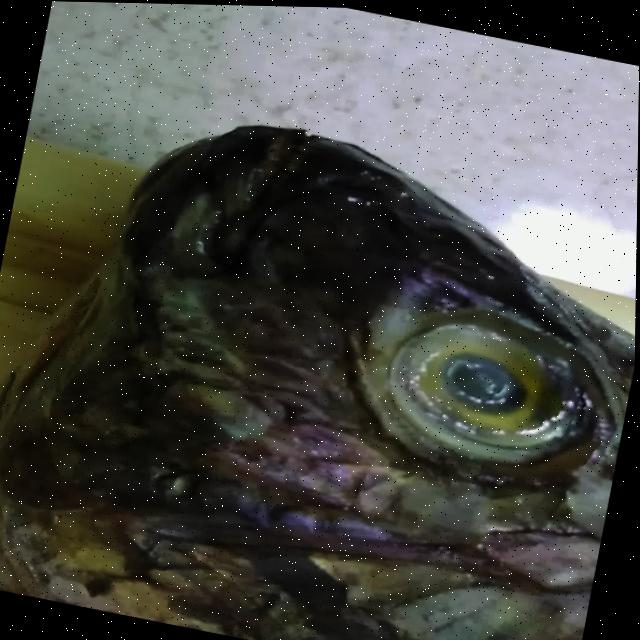Non-Fresh: (359, 294, 592, 487)
